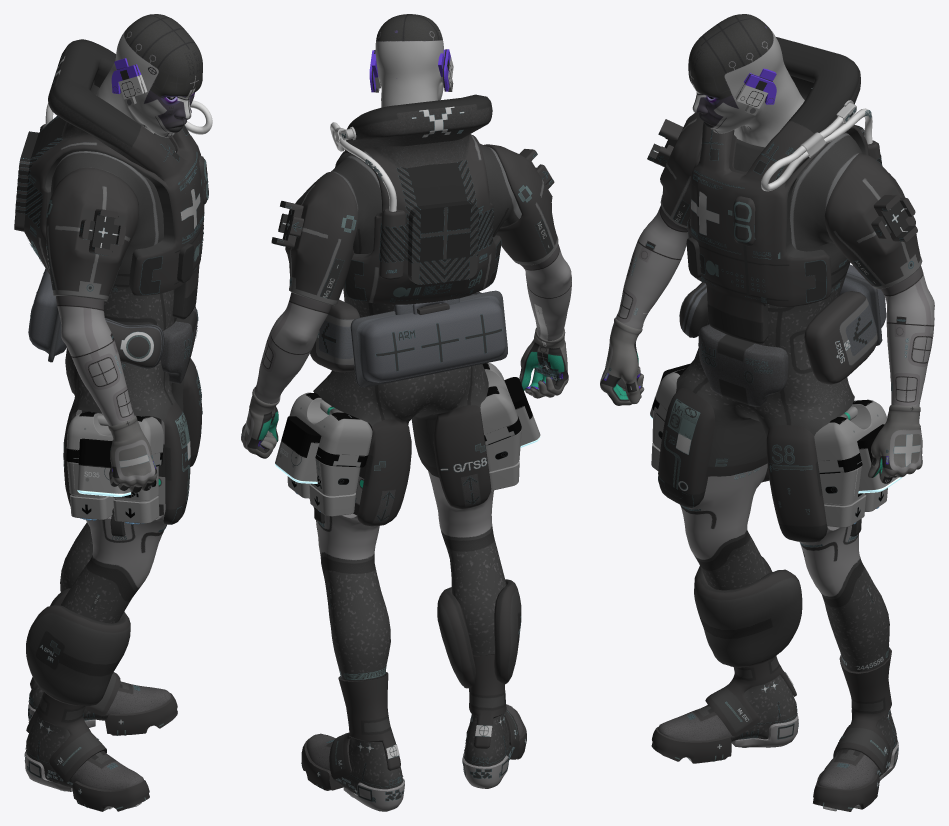
File: shadow_index.glb
3 renders of one model, left to right at view 1: azimuth 30°, elevation 25°; view 2: azimuth 150°, elevation 25°; view 3: azimuth 270°, elevation 25°, orthographic. The views are drawn at different scales.
Parts seen in each view (by area): view 1: bodysuit1, vest1, boots1, sleeves1, Head_Low1, shinpad1, decals_default1, forearm1, elbow1, hands1, satchel_rear1, decals_3rdperson1 (+12 smaller); view 2: bodysuit1, vest1, boots1, decals_default1, sleeves1, satchel_rear1, Head_Low1, shinpad1, hands1, elbow1, forearm1, decals_3rdperson1 (+13 smaller); view 3: bodysuit1, vest1, boots1, sleeves1, Head_Low1, shinpad1, forearm1, hands1, pad_front1, satchel_left1, decals_default1, decals_3rdperson1 (+13 smaller).
Boxes of the visible parts, x1,y1,x2,y2 form: bodysuit1: (51, 151, 202, 623); vest1: (14, 39, 208, 319); boots1: (25, 672, 177, 811); sleeves1: (46, 167, 138, 301); Head_Low1: (96, 14, 202, 137); shinpad1: (26, 588, 130, 705); decals_default1: (15, 56, 208, 368); forearm1: (71, 340, 134, 425); elbow1: (56, 296, 114, 356); hands1: (108, 415, 157, 492); satchel_rear1: (28, 268, 66, 362); decals_3rdperson1: (24, 369, 202, 808); bodysuit1: (309, 143, 521, 680); vest1: (335, 94, 501, 304); boots1: (301, 654, 526, 811); decals_default1: (317, 106, 502, 371); sleeves1: (285, 144, 558, 305); satchel_rear1: (350, 290, 507, 387); Head_Low1: (375, 14, 443, 107); shinpad1: (437, 579, 521, 688); hands1: (241, 328, 568, 458); elbow1: (270, 244, 571, 354); forearm1: (254, 281, 571, 403); decals_3rdperson1: (301, 443, 526, 810); bodysuit1: (658, 132, 889, 671); vest1: (687, 37, 869, 344); boots1: (651, 647, 898, 811); sleeves1: (660, 112, 922, 289); Head_Low1: (688, 14, 804, 147); shinpad1: (694, 556, 802, 667); forearm1: (616, 240, 934, 406); hands1: (600, 317, 922, 483); pad_front1: (698, 324, 788, 406); satchel_left1: (804, 291, 877, 384); decals_default1: (679, 43, 882, 383); decals_3rdperson1: (653, 399, 898, 809).
Bounding box in the file's own units: 0.567 × 1.81 × 0.7101.
Materials: 25 (13 with a texture image).
